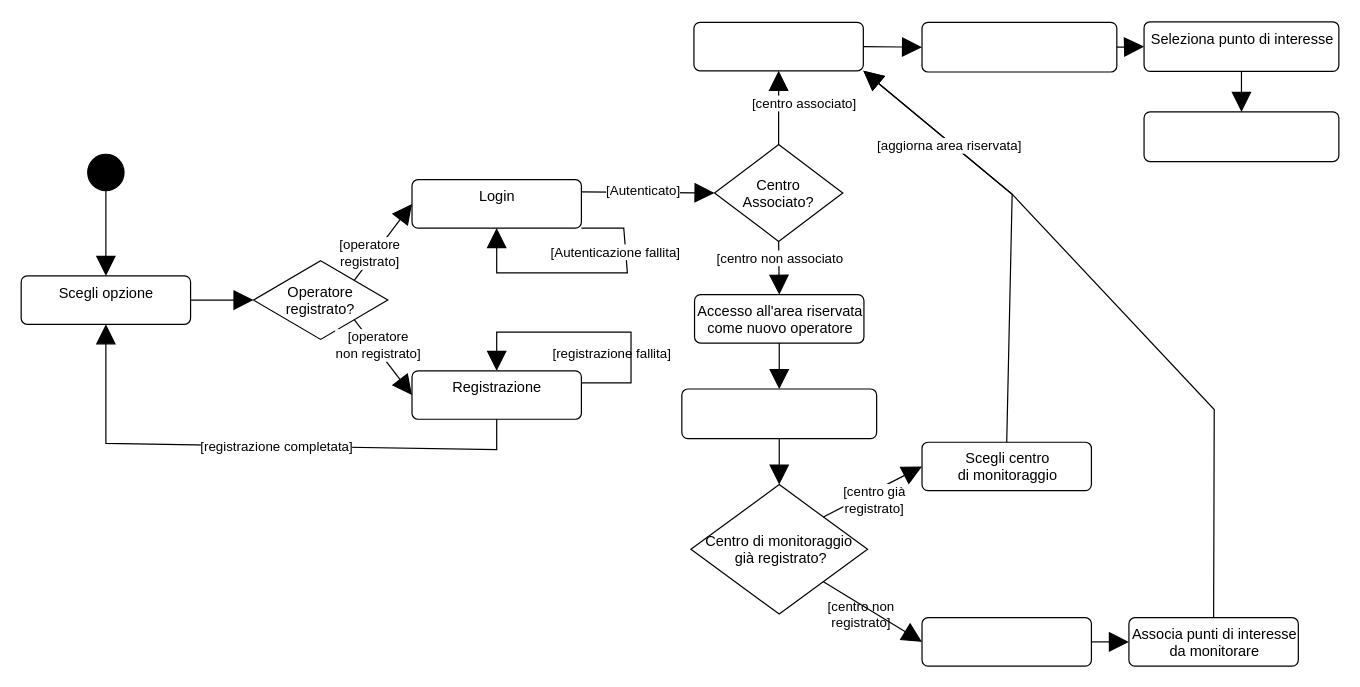
Image size: 1360x687. Some labels were removed from this diagram. Here are the shapes that lost their labels. From the top down, the centre of each, then its label:
At point (778, 46): "Accesso all'area riservata".
At point (1019, 46): "Inserisci una misurazione".
At point (1241, 136): "Registra i dati".
At point (779, 413): "Assoicia un centro di monitoraggio".
At point (1006, 641): "Registra centro di monitoraggio".
